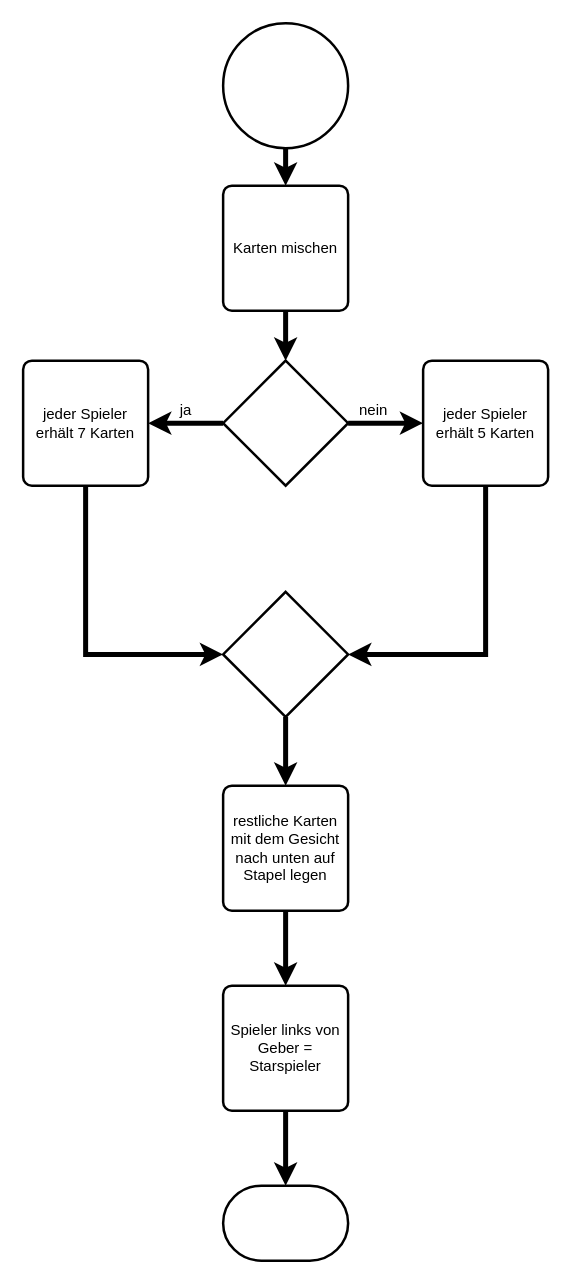
This 570x1283 diagram has some shape labels left out. The shapes that lost their labels are listed below. From the top down, each one's centre as x and y in pixels, then its label:
the point at 285,85: 52 Spiel-Karten; 2-6 Spieler
the point at 285,422: Anzahl Spieler <4
the point at 285,1222: Ende der Vorbereitung
